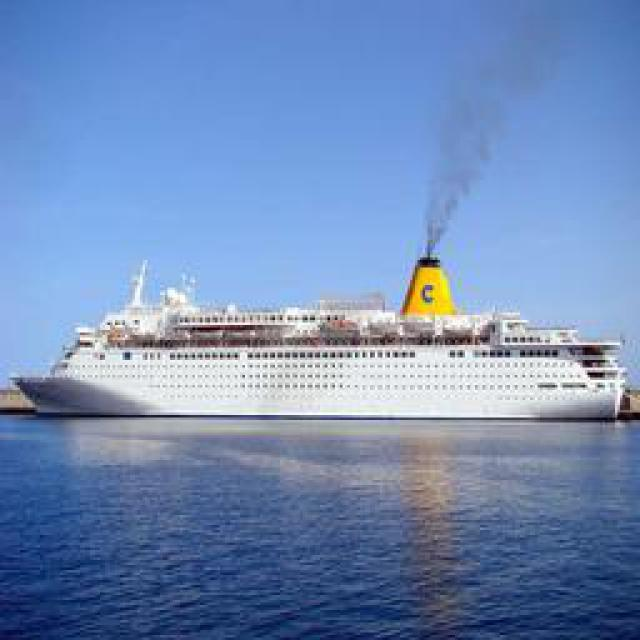Ship: (24, 256, 629, 424)
